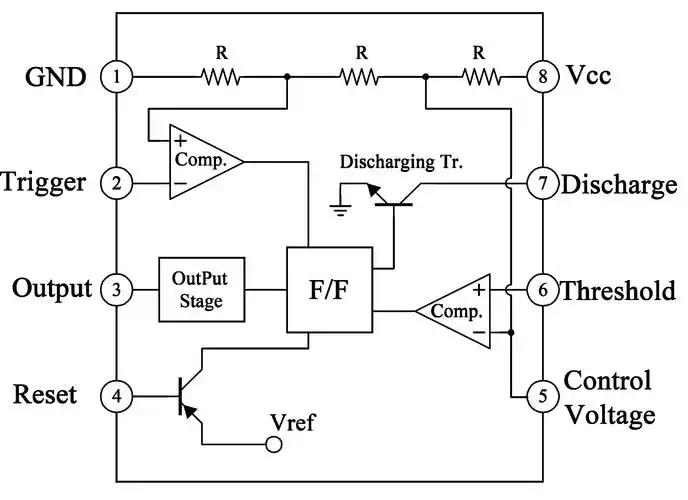bistable flip-flop: (286, 246, 372, 331)
comparator1: (415, 272, 492, 351), (167, 124, 244, 199)
discharge circuit: (367, 181, 421, 207)
output circuit: (159, 257, 244, 322)
reset circuit: (174, 366, 204, 427)
resistance: (197, 67, 242, 88), (339, 66, 380, 87), (460, 67, 503, 86)
